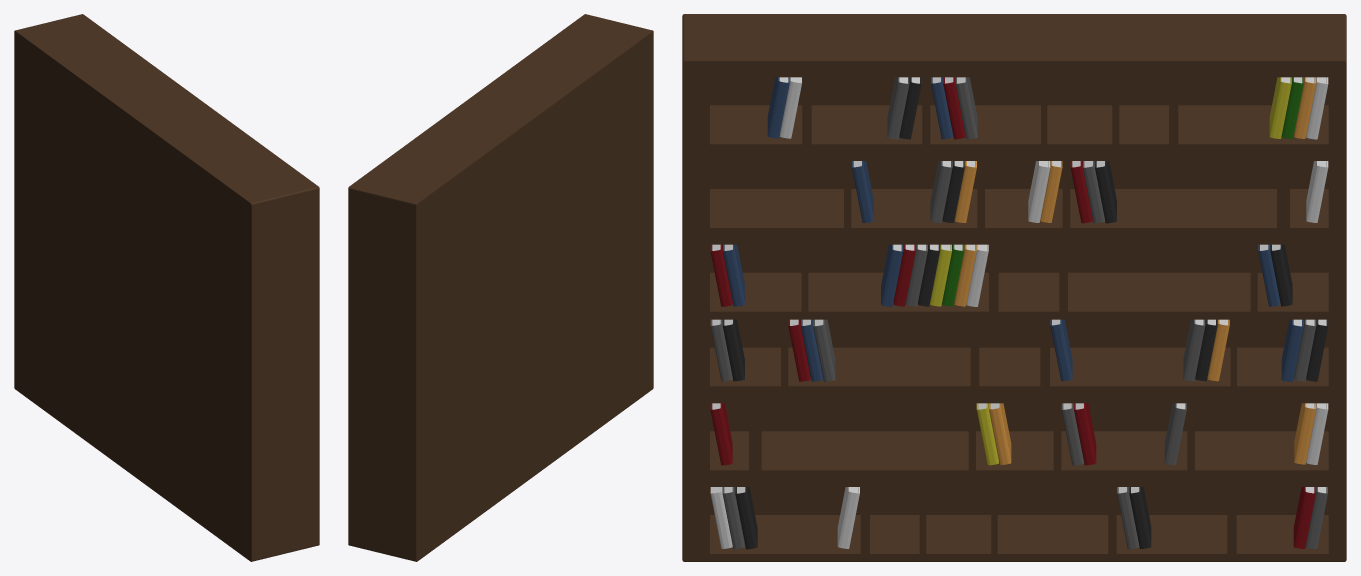
The model's file is uploads_files_599966_bookshelf+with+books.fbx.
3 views of the same model, side by side, from view 1: azimuth 30°, elevation 25°; view 2: azimuth 150°, elevation 25°; view 3: azimuth 270°, elevation 25° (orthographic). The views are drawn at different scales.
Visible parts, largest first — view 1: bookshelf; view 2: bookshelf; view 3: bookshelf, book_blue.008, book_grey.005, book_Red.006, book_blue.001, book_black.008, book_Red.005, book_grey.002, book_grey.001, book_black.004, book_Red.007, book_white.007 (+32 smaller).
Boxes of the visible parts, <box> form: bookshelf: <box>14,14,319,561</box>; bookshelf: <box>348,14,653,561</box>; bookshelf: <box>682,14,1346,561</box>; book_blue.008: <box>1281,319,1303,381</box>; book_grey.005: <box>813,319,835,381</box>; book_Red.006: <box>1074,403,1096,465</box>; book_blue.001: <box>881,244,903,306</box>; book_black.008: <box>735,487,757,549</box>; book_Red.005: <box>710,403,732,465</box>; book_grey.002: <box>955,77,977,139</box>; book_grey.001: <box>887,77,909,139</box>; book_black.004: <box>1270,244,1292,306</box>; book_Red.007: <box>1293,487,1315,548</box>; book_white.007: <box>837,487,859,548</box>.
Size of the model in its own units: 30 by 150 by 180.
